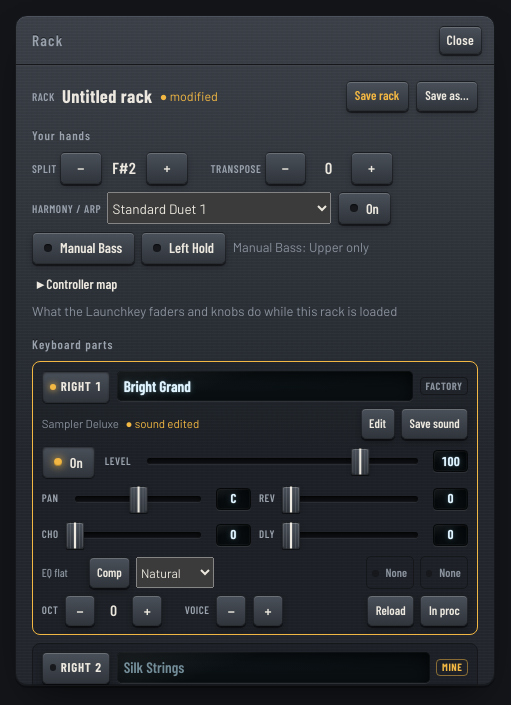
Test: Rack panel: the head › edited presets: a name field per part, prefilled, and the save is sent again with the names
Click the button "Save rack" at [377, 96], box [346, 81, 409, 111]
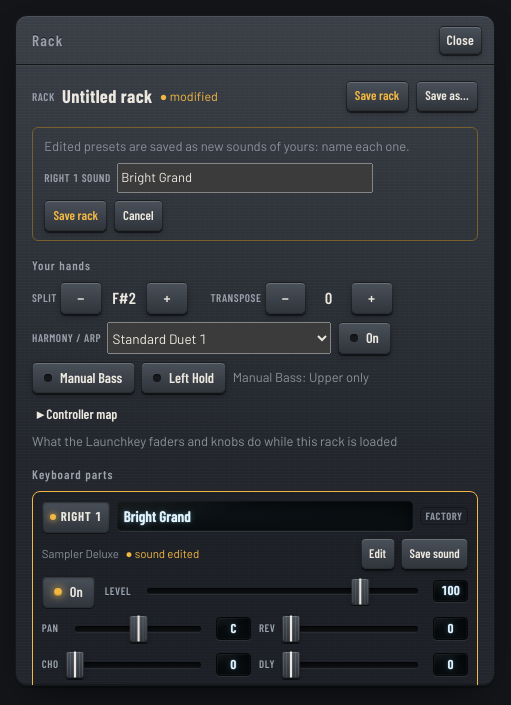
expect the form with class "names" shows "Right 1 sound": met, box [44, 171, 111, 184]
expect the field with id "rack-sn-0" holds "Bright Grand": met
Type "My Keys" into the field with id "rack-sn-0" at [245, 178], box [117, 163, 373, 193]
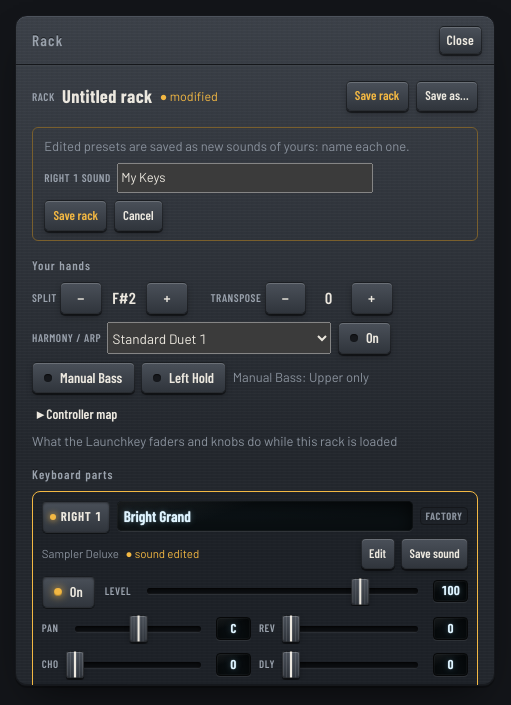
Click the button "Save rack" below "Right 1 sound" at [76, 215], box [44, 200, 107, 231]
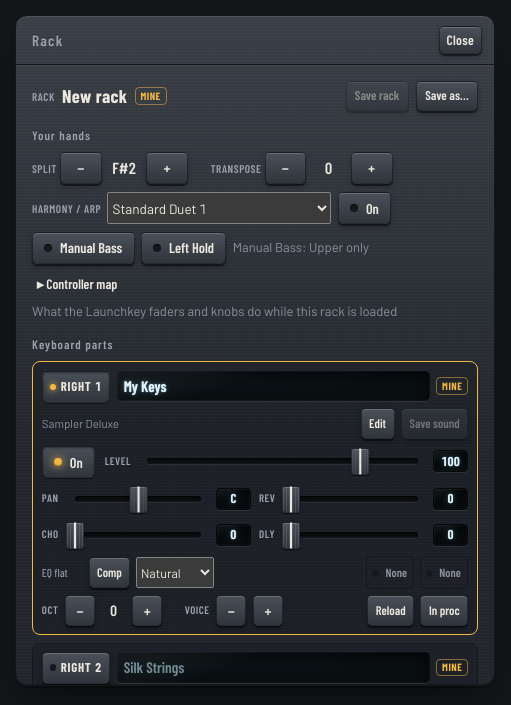
expect the form with class "names" is gone: met
